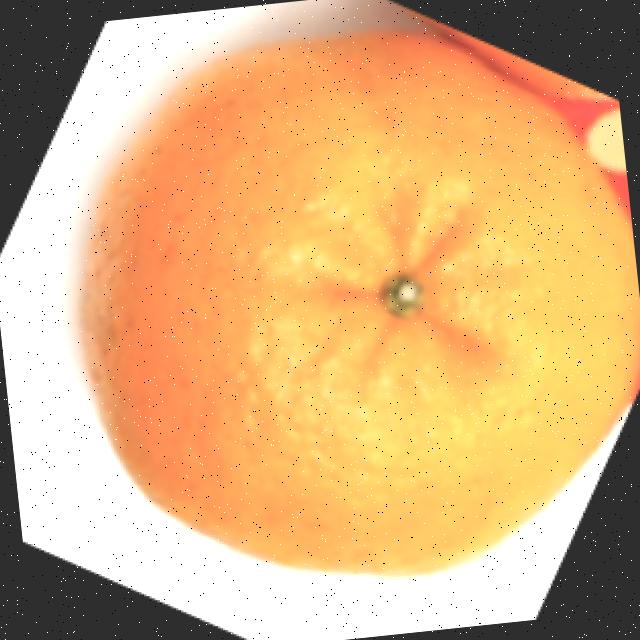orange: (53, 9, 640, 611)
